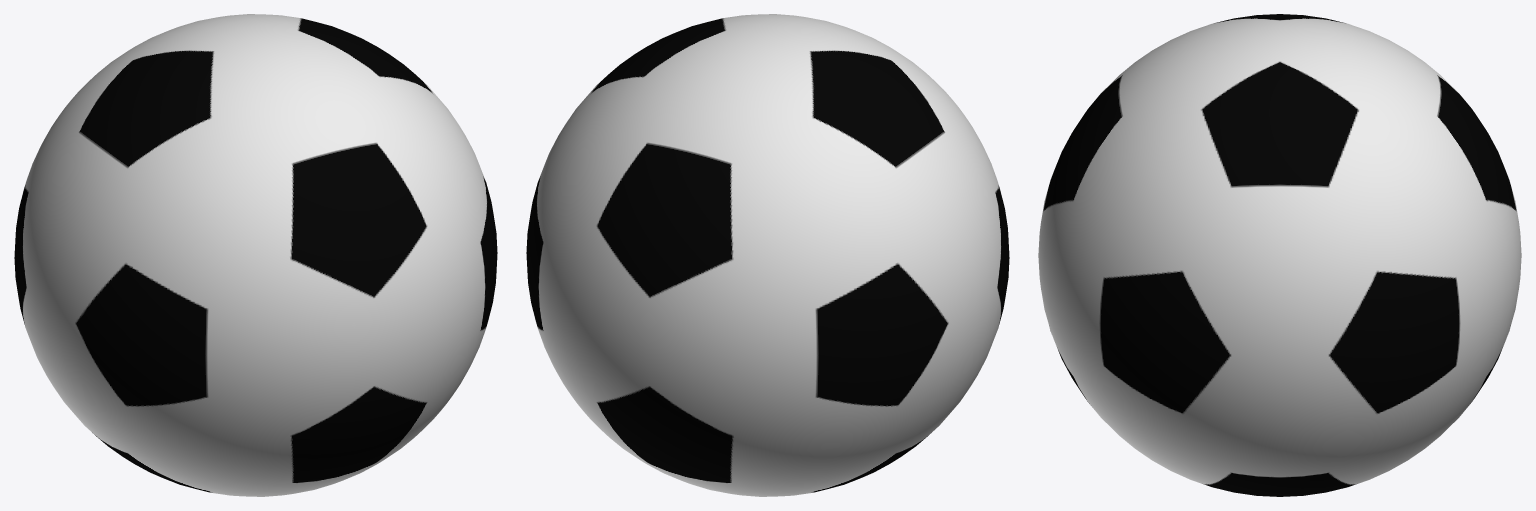
Rendered from Pelota.obj.
3 views of the same model, side by side, from view 1: azimuth 30°, elevation 25°; view 2: azimuth 150°, elevation 25°; view 3: azimuth 270°, elevation 25° (orthographic).
Parts seen in each view (by area): view 1: Pelota; view 2: Pelota; view 3: Pelota.
Part boxes in pixels (x1,y1,x2,y2): Pelota: [14, 14, 497, 496]; Pelota: [526, 14, 1009, 496]; Pelota: [1038, 14, 1521, 496].
Size of the model in its own units: 0.4261 by 0.4261 by 0.4261.
1 material, 1 textured.
